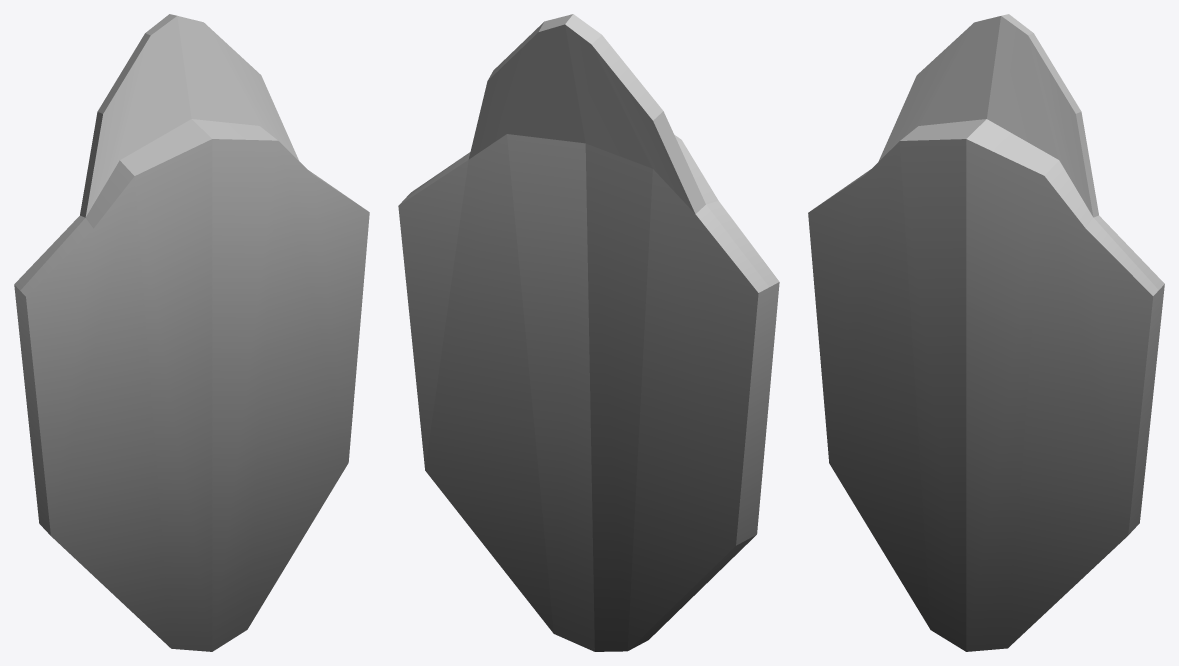
Rendered from EnemyShield.FBX.
3 views of the same model, side by side, from view 1: azimuth 30°, elevation 25°; view 2: azimuth 150°, elevation 25°; view 3: azimuth 330°, elevation 25° (orthographic). The views are drawn at different scales.
Visible parts, largest first — view 1: Plane008; view 2: Plane008; view 3: Plane008.
Part boxes in pixels (x1,y1,x2,y2): Plane008: (14, 14, 369, 651); Plane008: (398, 14, 779, 651); Plane008: (808, 14, 1164, 651).
Bounding box in the file's own units: 78.54 × 133 × 16.93.
